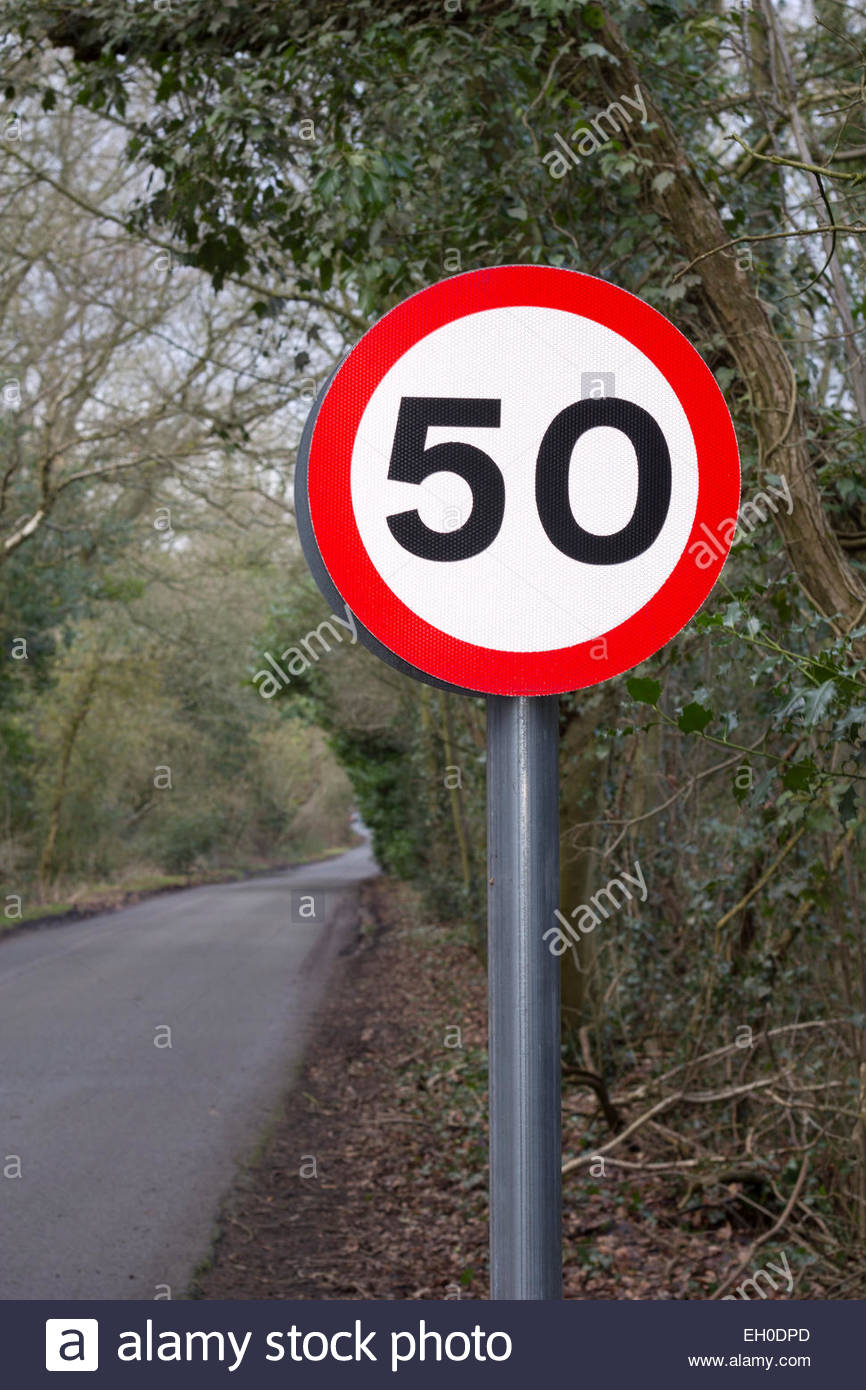Speed_limit_50km: (302, 260, 739, 703)
